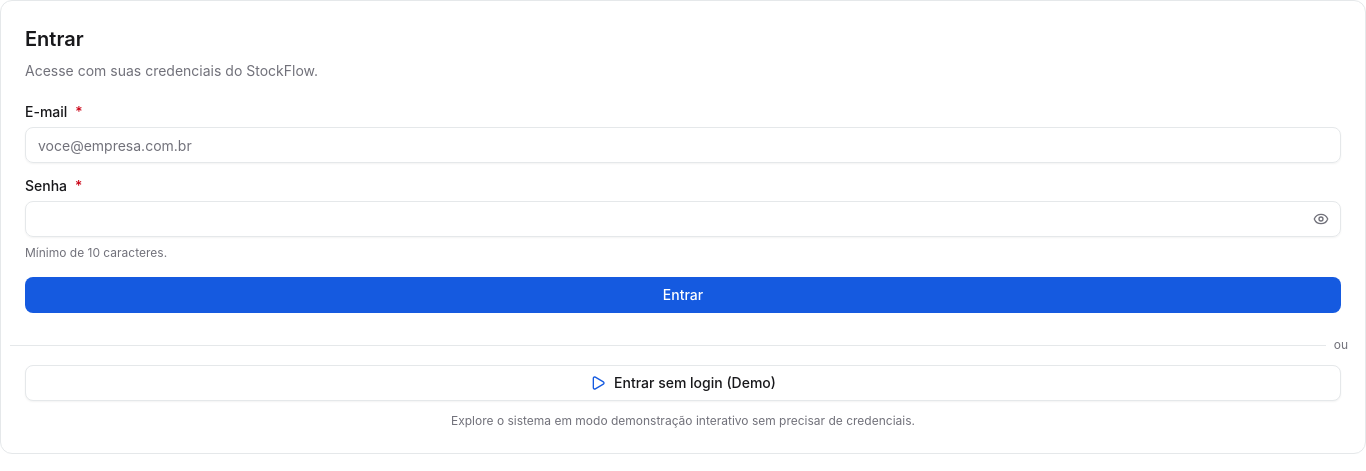
Test: LoginPage › validação › recusa senha mais curta que a política
Type "ana@empresa.com" into the field labelled "E-mail *" at (683, 145), box [25,127,1341,163]
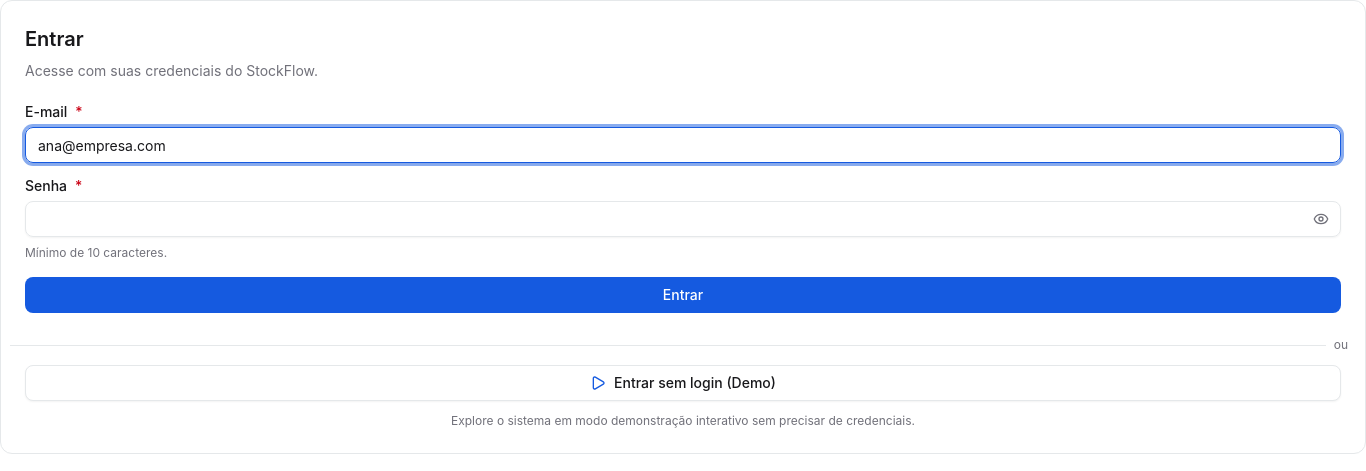
Type "curta" into the password field labelled "Senha *" at (683, 219), box [25,201,1341,237]
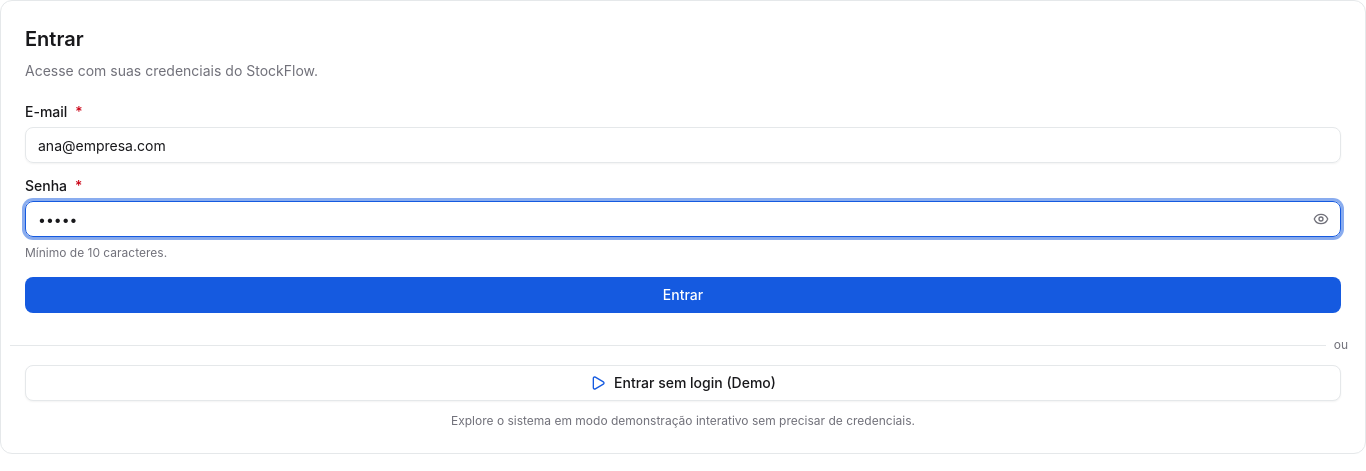
Click the button "Entrar" at (683, 295), box [25,277,1341,313]
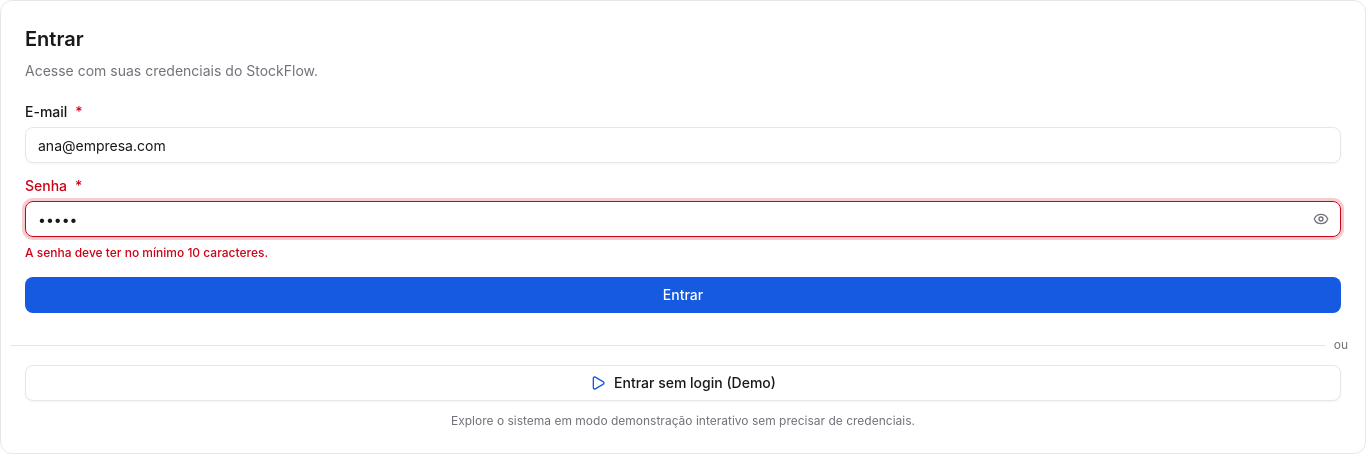
Now the text "A senha deve ter no mínimo 10 caracteres." is shown, box [25,245,268,260]
